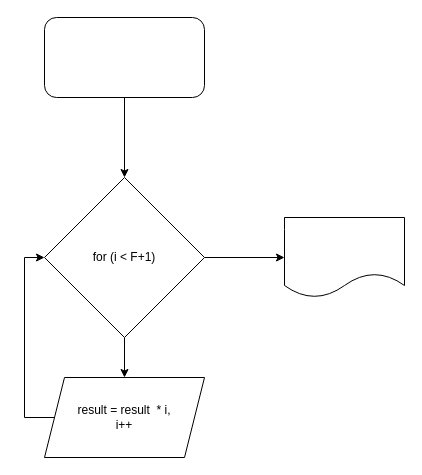
Image size: 422x475. Some labels were removed from this diagram. Here are the shapes that lost their labels. From the top down, the centre of each, then its label:
[124,57]: F, i = 1 , result = 1
[344,257]: result
